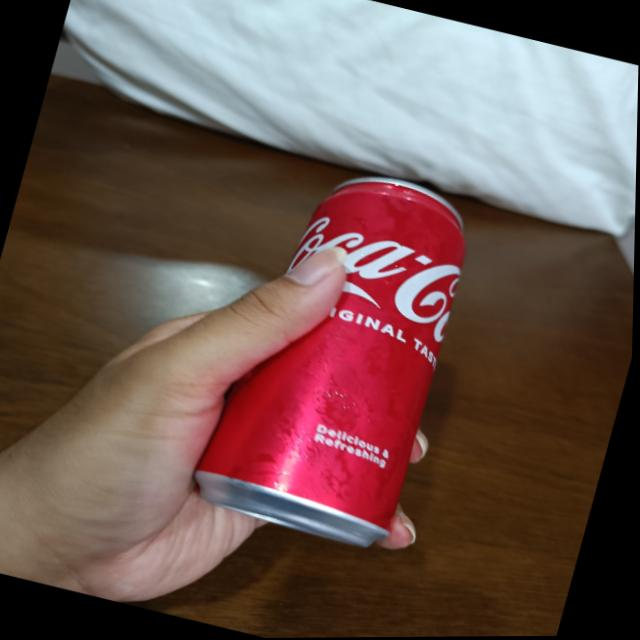coke: (188, 152, 481, 558)
